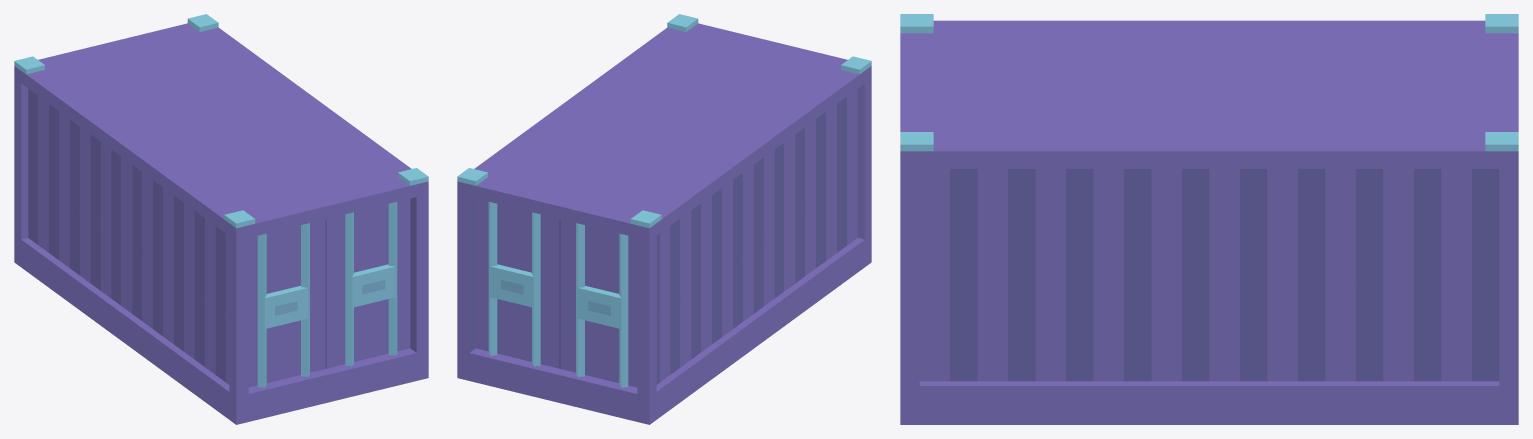
The model's file is container-a.glb.
The picture shows the model from 3 angles, left to right: view 1: azimuth 30°, elevation 25°; view 2: azimuth 150°, elevation 25°; view 3: azimuth 270°, elevation 25°; orthographic projection. The views are drawn at different scales.
Visible parts, largest first — view 1: shippingContainer-grape; view 2: shippingContainer-grape; view 3: shippingContainer-grape.
Boxes of the visible parts, <box> form: shippingContainer-grape: <box>14,14,428,424</box>; shippingContainer-grape: <box>457,14,871,424</box>; shippingContainer-grape: <box>900,14,1518,424</box>.
Size of the model in its own units: 2.5 by 2.5 by 5.
1 material, 1 textured.
